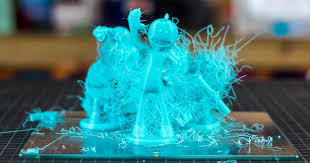fail: (80, 16, 142, 146), (176, 23, 241, 135), (20, 108, 144, 159), (167, 113, 273, 154)
